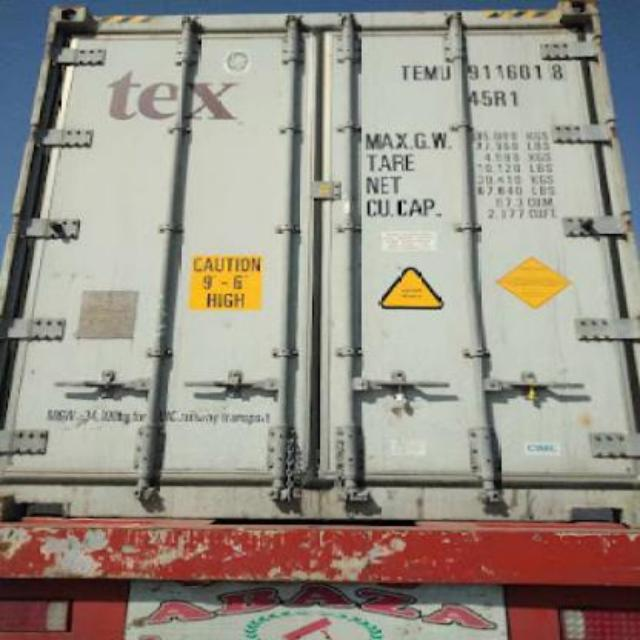0: (520, 62, 530, 82)
1: (480, 64, 496, 80), (534, 63, 546, 81), (496, 62, 504, 82)
6: (506, 64, 516, 82)
8: (550, 63, 564, 81)
9: (468, 64, 478, 80)
E: (412, 62, 422, 82)
M: (422, 63, 440, 81)
T: (398, 65, 412, 81)
U: (440, 66, 450, 80)
